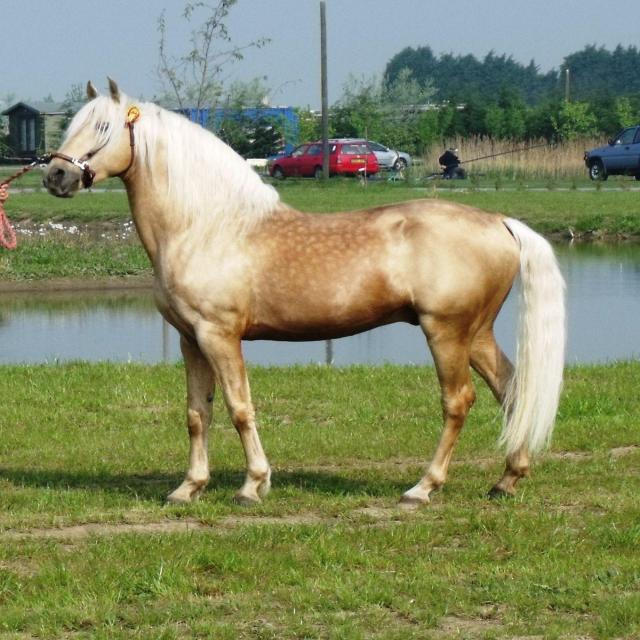horse: (41, 75, 568, 513)
